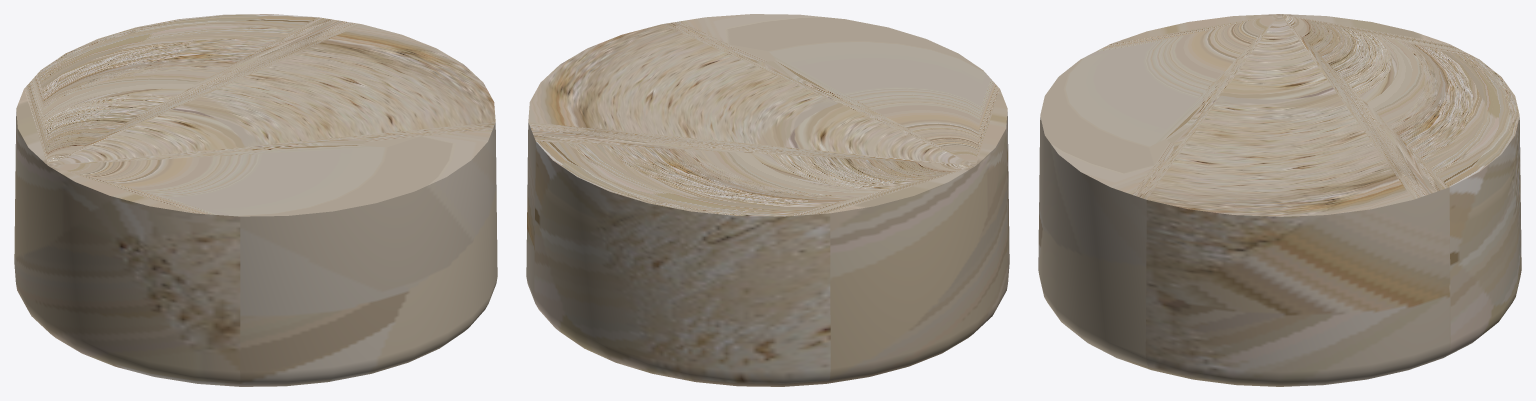
The model's file is Lime Water 2.fbx.
3 renders of one model, left to right at view 1: azimuth 30°, elevation 25°; view 2: azimuth 150°, elevation 25°; view 3: azimuth 270°, elevation 25°, orthographic.
Parts seen in each view (by area): view 1: Lime Water 2; view 2: Lime Water 2; view 3: Lime Water 2.
Boxes of the visible parts, x1,y1,x2,y2 form: Lime Water 2: (14, 14, 497, 386); Lime Water 2: (526, 14, 1009, 386); Lime Water 2: (1038, 14, 1521, 386).
Bounding box in the file's own units: 9.21 × 3.75 × 9.21.
